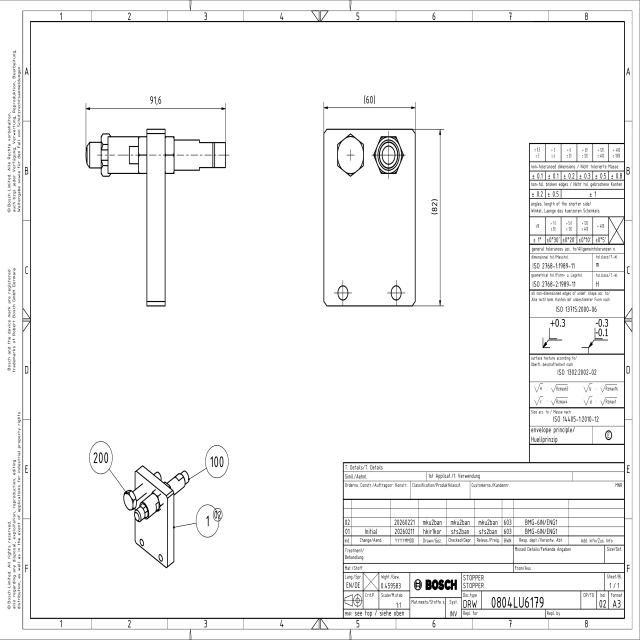dimension: (430, 196, 439, 217), (149, 94, 162, 108), (362, 95, 377, 106)
